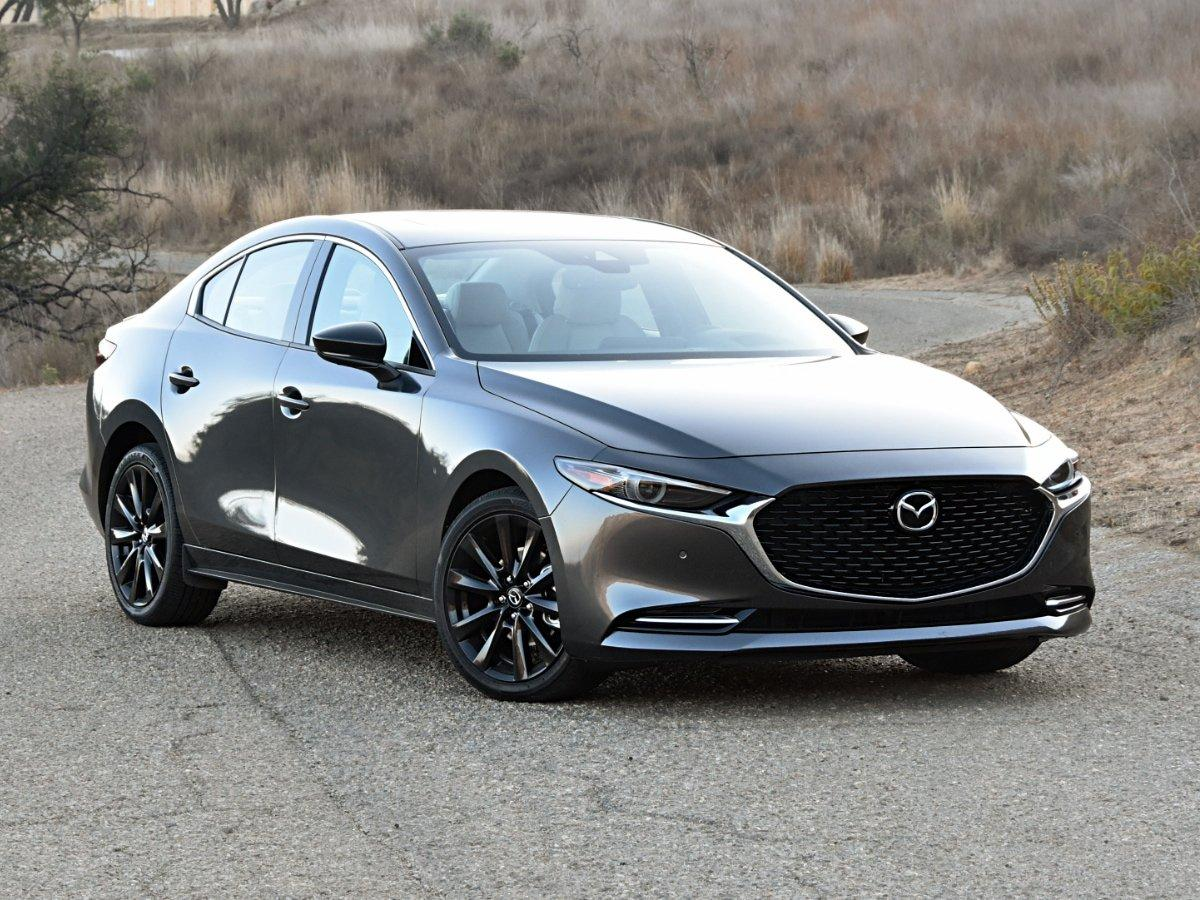car: (76, 213, 1109, 729)
